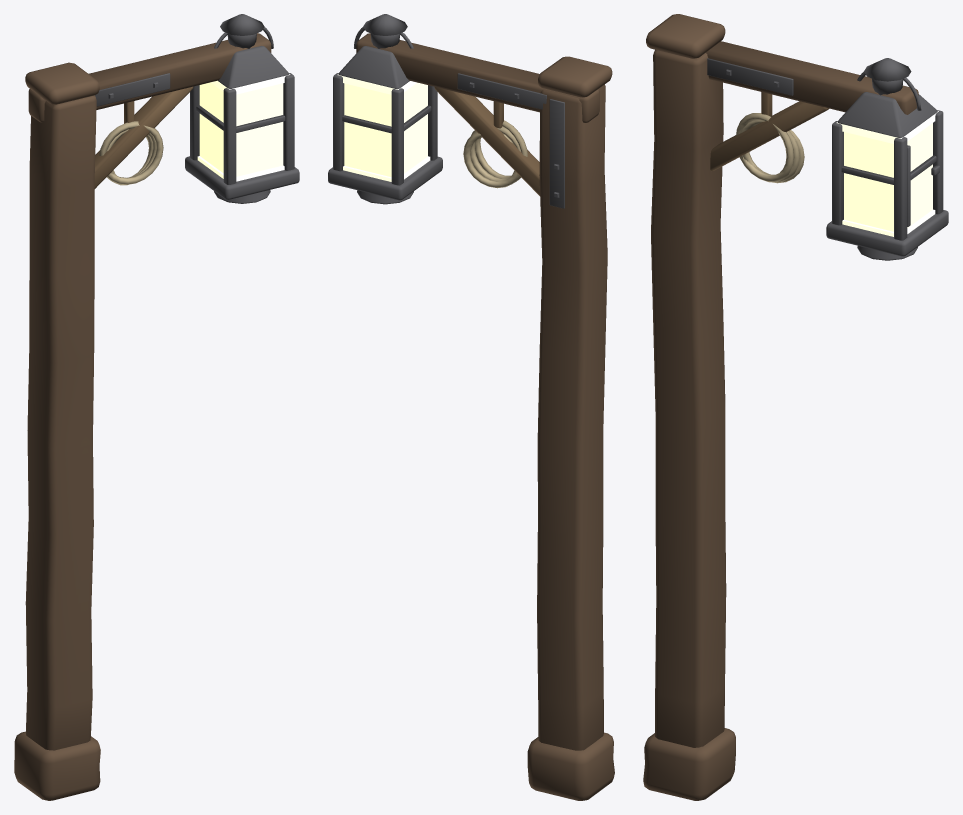
File: lantern_post.9939090b.glb
3 renders of one model, left to right at view 1: azimuth 30°, elevation 25°; view 2: azimuth 150°, elevation 25°; view 3: azimuth 330°, elevation 25°, orthographic. The views are drawn at different scales.
Parts seen in each view (by area): view 1: lantern_post; view 2: lantern_post; view 3: lantern_post.
Boxes of the visible parts, x1,y1,x2,y2 form: lantern_post: (14, 14, 299, 800); lantern_post: (328, 14, 614, 800); lantern_post: (643, 14, 948, 800).
Size of the model in its own units: 0.8492 by 2.33 by 0.25.
